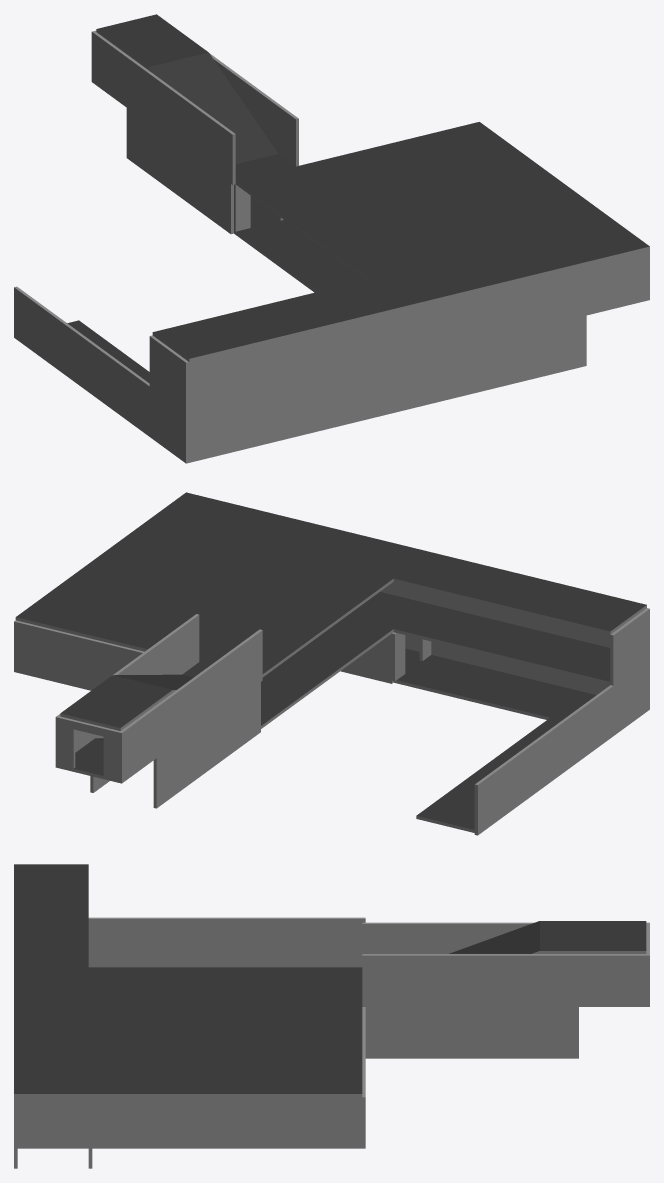
The model's file is area_51_training_hallways.glb.
The picture shows the model from 3 angles, top to bottom: view 1: azimuth 30°, elevation 25°; view 2: azimuth 150°, elevation 25°; view 3: azimuth 270°, elevation 25°; orthographic projection. The views are drawn at different scales.
Parts seen in each view (by area): view 1: store_tutorial_hallways-col; view 2: store_tutorial_hallways-col; view 3: store_tutorial_hallways-col.
Part boxes in pixels (x1,y1,x2,y2): store_tutorial_hallways-col: (14, 14, 649, 463); store_tutorial_hallways-col: (14, 492, 649, 835); store_tutorial_hallways-col: (14, 864, 649, 1168).
Size of the model in its own units: 30.8 by 9.8 by 35.8.
1 material, 1 textured.
